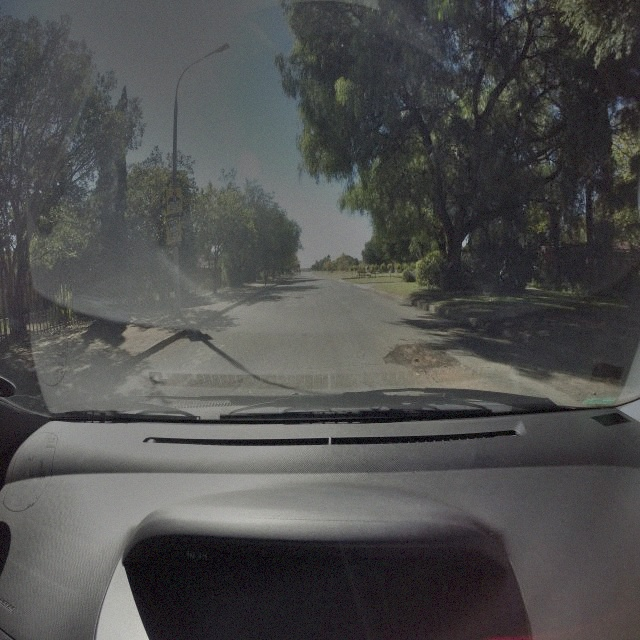pothole: (384, 334, 442, 370)
